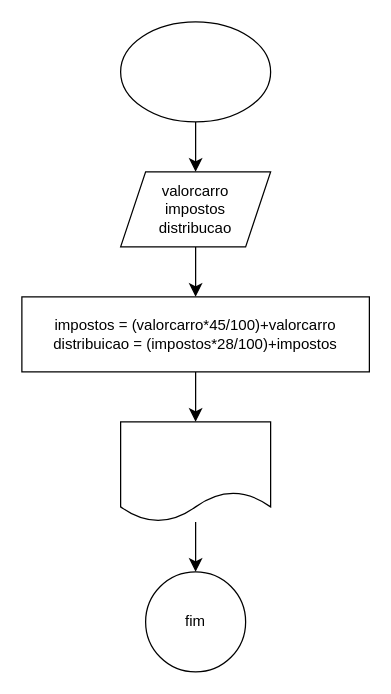
The diagram is 391 pixels wide and 694 high, and some of its shapes have lost their labels. The centre of each missing label's shape, as x and y in pixels:
distriuicao: point 195,471
inicio: point 195,71
